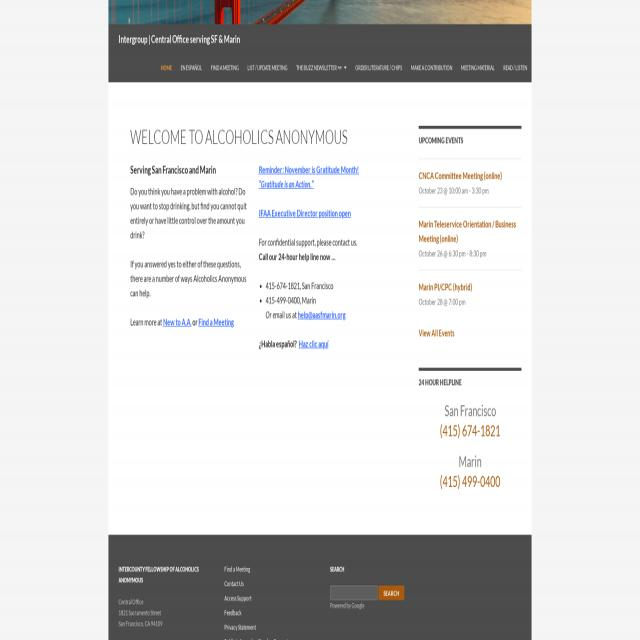button: (118, 24, 240, 53), (292, 56, 351, 82), (352, 54, 406, 82), (407, 54, 457, 82), (244, 54, 292, 82), (457, 54, 499, 82), (207, 54, 243, 82), (499, 54, 531, 82), (177, 54, 206, 82), (157, 54, 176, 82), (378, 585, 404, 600)
field: (330, 585, 378, 600)
